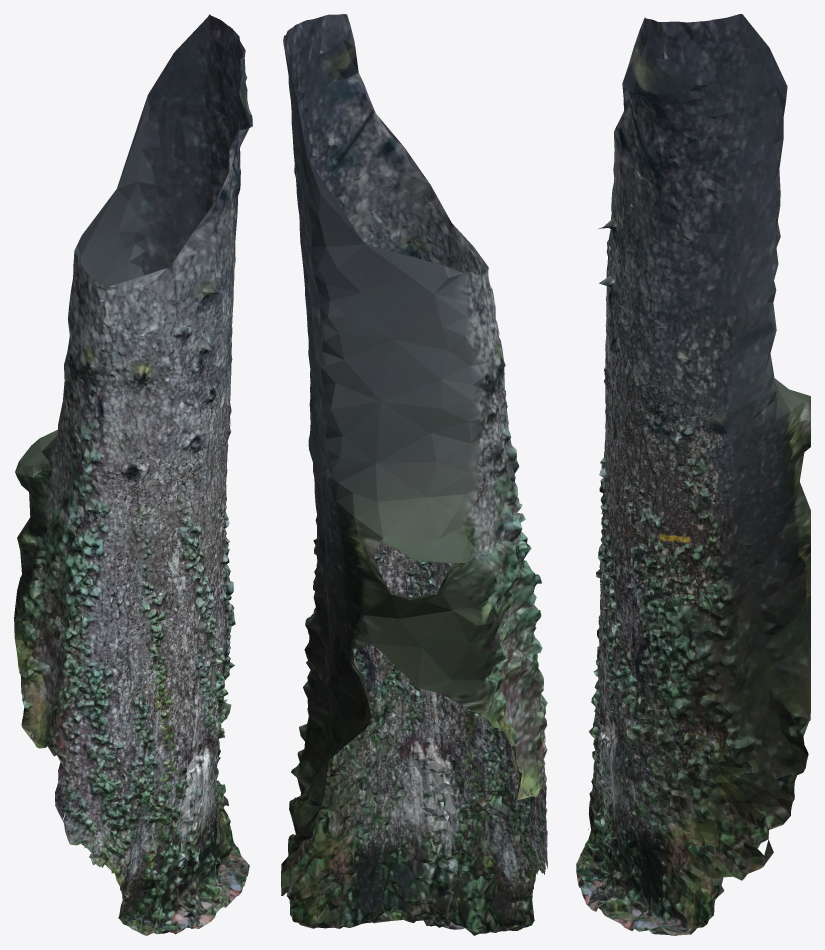
The model's file is Tree-tronc-360.fbx.
3 renders of one model, left to right at view 1: azimuth 30°, elevation 25°; view 2: azimuth 150°, elevation 25°; view 3: azimuth 270°, elevation 25°, orthographic. The views are drawn at different scales.
Parts seen in each view (by area): view 1: meshes[0]; view 2: meshes[0]; view 3: meshes[0].
Part boxes in pixels (bbox=[...]): meshes[0]: bbox=[14, 14, 252, 935]; meshes[0]: bbox=[281, 14, 547, 935]; meshes[0]: bbox=[576, 14, 810, 935].
Size of the model in its own units: 0.9524 by 3.65 by 0.8324.
Materials: 1 (1 with a texture image).
